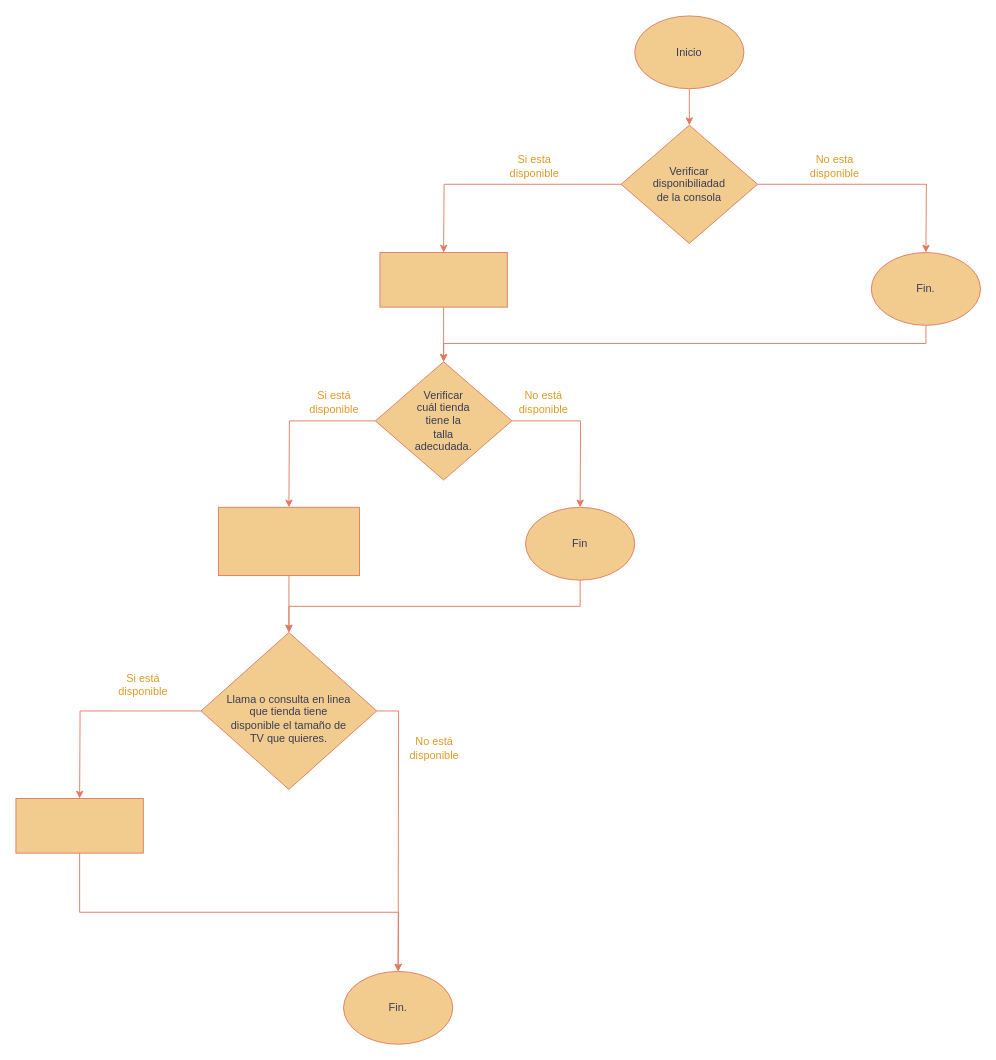
The diagram is 996 pixels wide and 1060 high, and some of its shapes have lost their labels. Each missing label, with the box of its shape:
Ir a comprar la consola a la tienda que la tiene disponible.: (379, 252, 507, 307)
Ir a la tienda por la talla correcta.: (217, 506, 359, 576)
Ve a la tienda a comprar el tamaño de TV que necesitas.: (15, 798, 143, 853)
